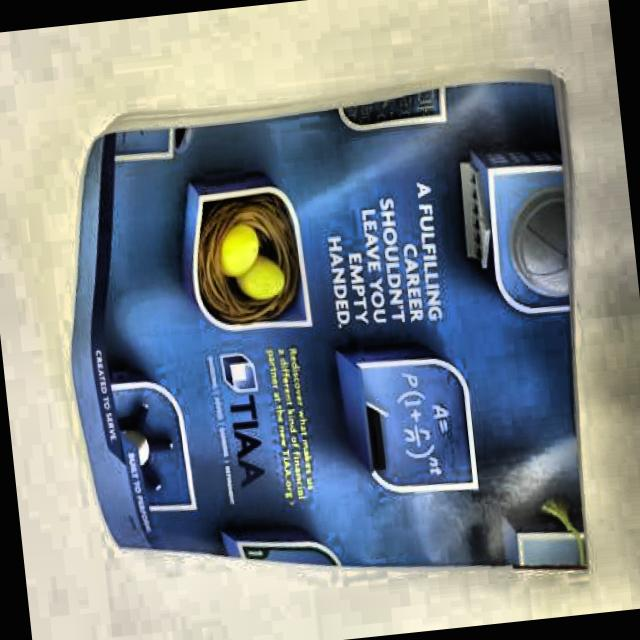paper: (45, 67, 619, 622)
